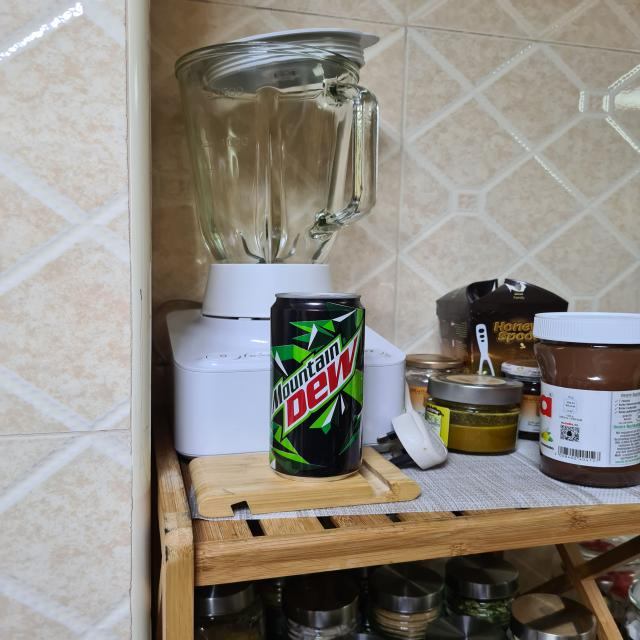non-organic waste: (270, 289, 366, 480)
